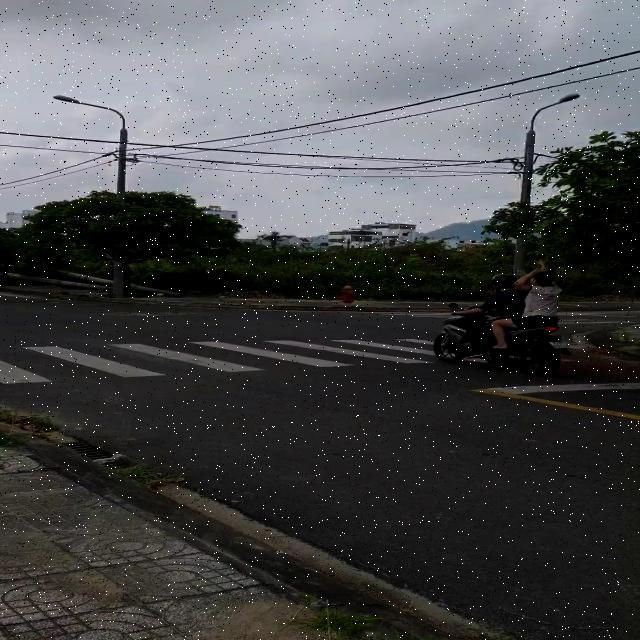no_helmet: (524, 264, 559, 291)
